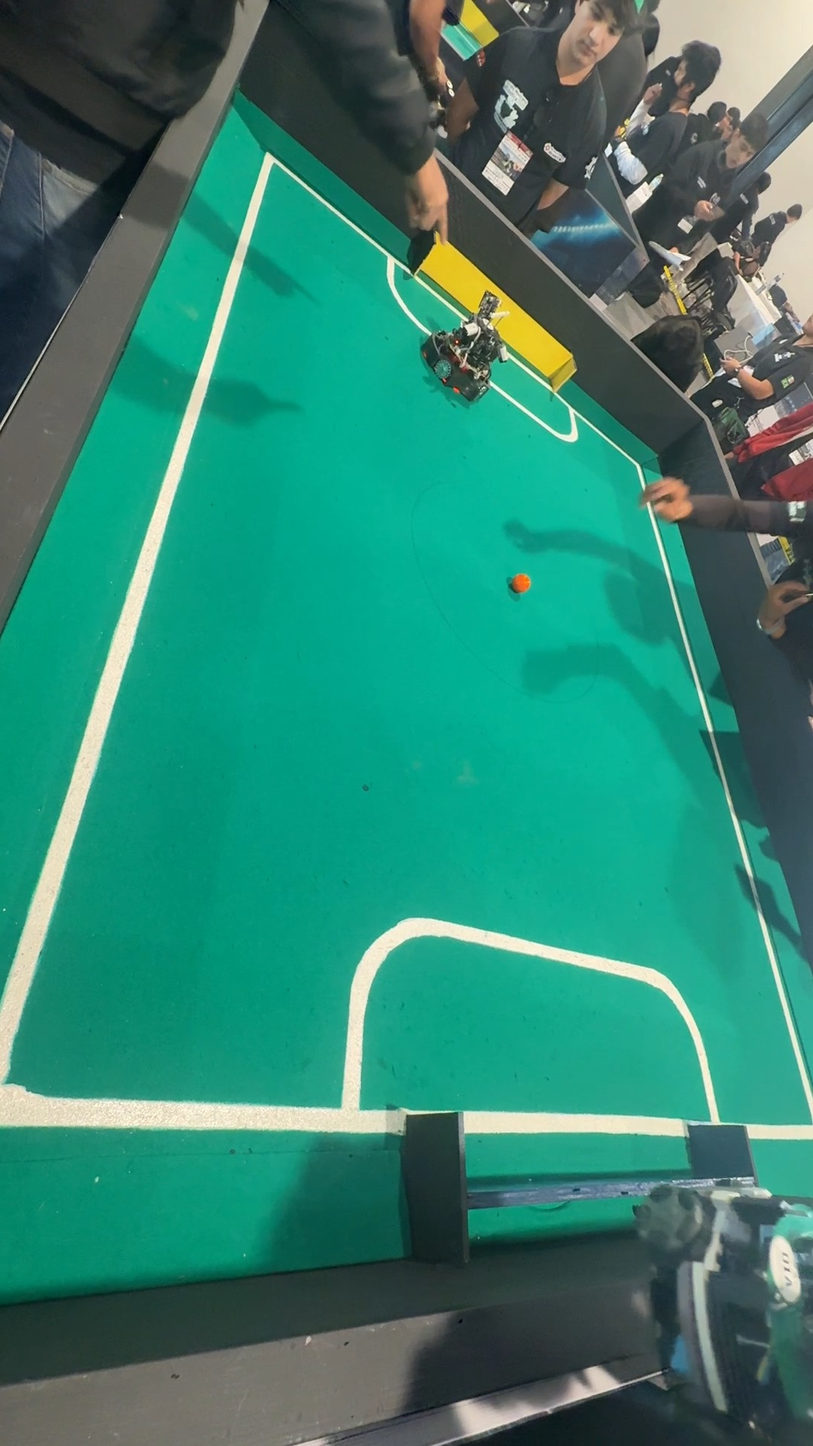Robot: (411, 281, 510, 417)
pelota: (509, 569, 532, 595)
